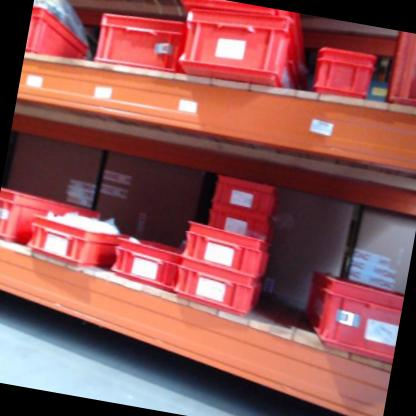small_load_carrier: (173, 0, 310, 91), (19, 209, 134, 281), (0, 183, 107, 257), (309, 275, 404, 356), (90, 4, 189, 80), (176, 215, 275, 280), (168, 262, 268, 319), (24, 0, 96, 70), (105, 235, 177, 291), (308, 45, 375, 103), (206, 170, 284, 219), (381, 30, 416, 112), (206, 210, 276, 240)
